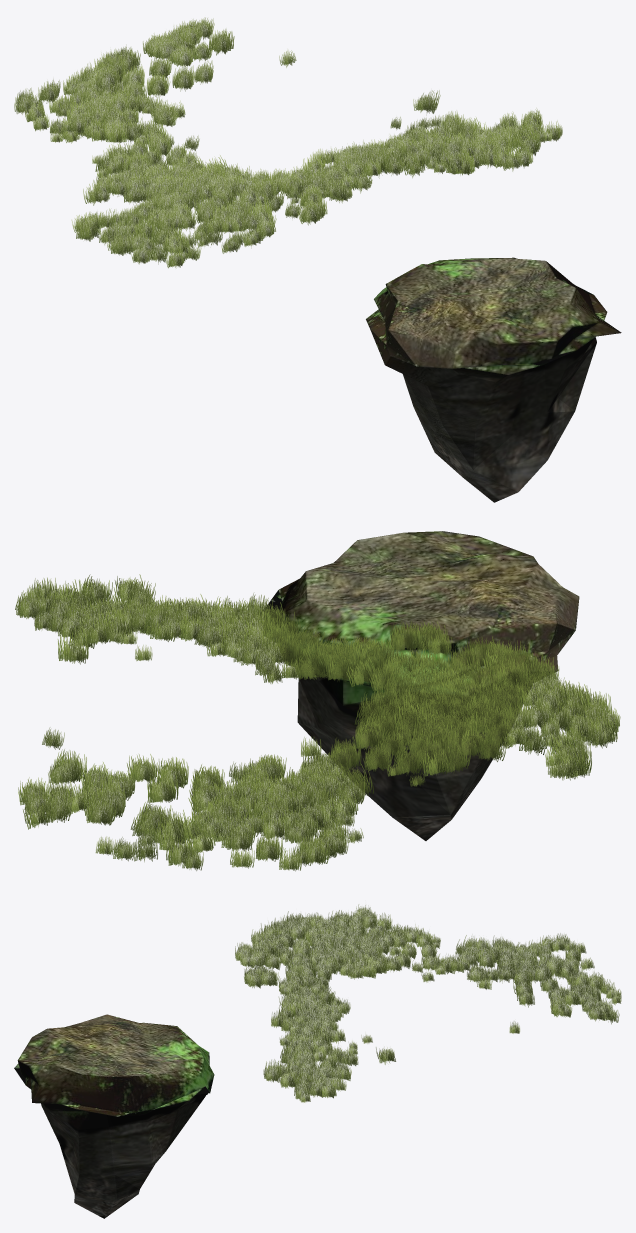
The model's file is grass.glb.
The picture shows the model from 3 angles, top to bottom: view 1: azimuth 30°, elevation 25°; view 2: azimuth 150°, elevation 25°; view 3: azimuth 270°, elevation 25°; orthographic projection. The views are drawn at different scales.
Parts seen in each view (by area): view 1: grass_2_0.260, GROUND_LAND; view 2: grass_2_0.260, GROUND_LAND; view 3: grass_2_0.260, GROUND_LAND.
Boxes of the visible parts, x1,y1,x2,y2 form: grass_2_0.260: (14,17,562,268); GROUND_LAND: (366,257,621,502); grass_2_0.260: (15,574,620,871); GROUND_LAND: (264,531,579,840); grass_2_0.260: (235,904,621,1102); GROUND_LAND: (14,1014,214,1218).
Bounding box in the file's own units: 27.43 × 15.49 × 37.66.
2 materials, 2 textured.
